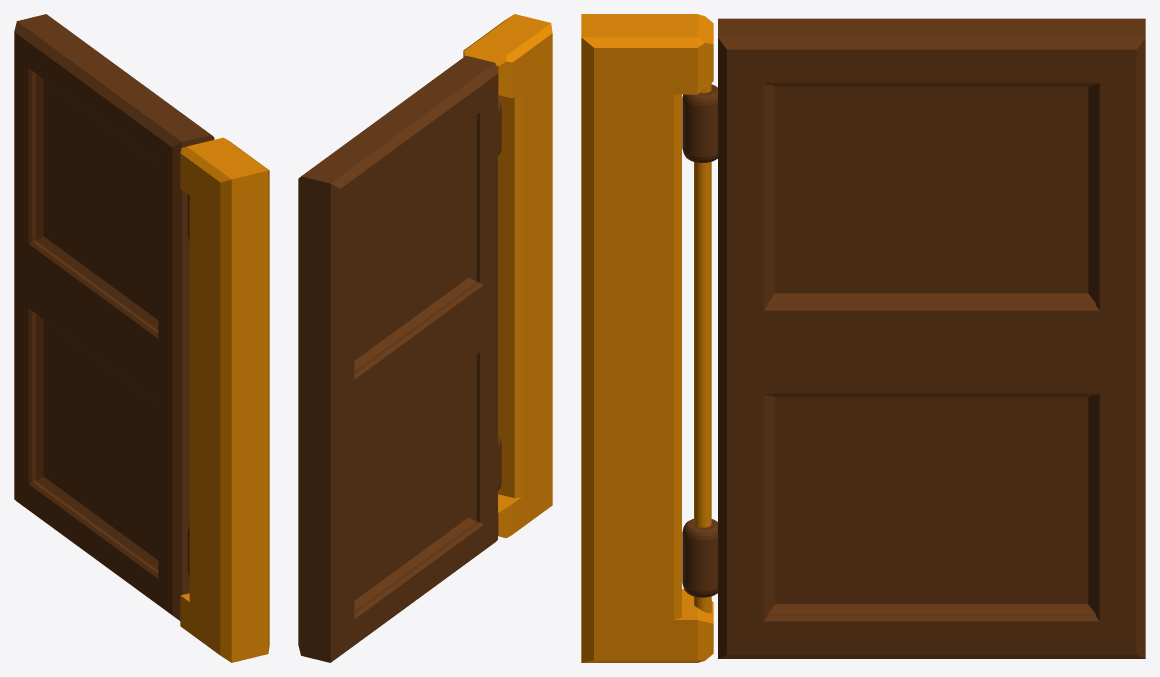
File: Door.fbx
3 views of the same model, side by side, from view 1: azimuth 30°, elevation 25°; view 2: azimuth 150°, elevation 25°; view 3: azimuth 270°, elevation 25° (orthographic). The views are drawn at different scales.
Parts seen in each view (by area): view 1: Door, OutSide; view 2: Door, OutSide; view 3: Door, OutSide.
Part boxes in pixels (box(x1,y1,x2,y2)): Door: box(14, 14, 214, 620); OutSide: box(180, 137, 269, 662); Door: box(298, 55, 501, 662); OutSide: box(463, 14, 552, 538); Door: box(682, 18, 1145, 658); OutSide: box(581, 14, 713, 662).
Size of the model in its own units: 50.57 by 474 by 387.
